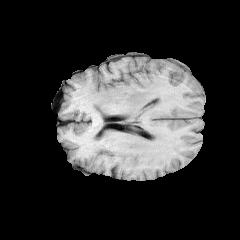glioma: (87, 76, 178, 113)
